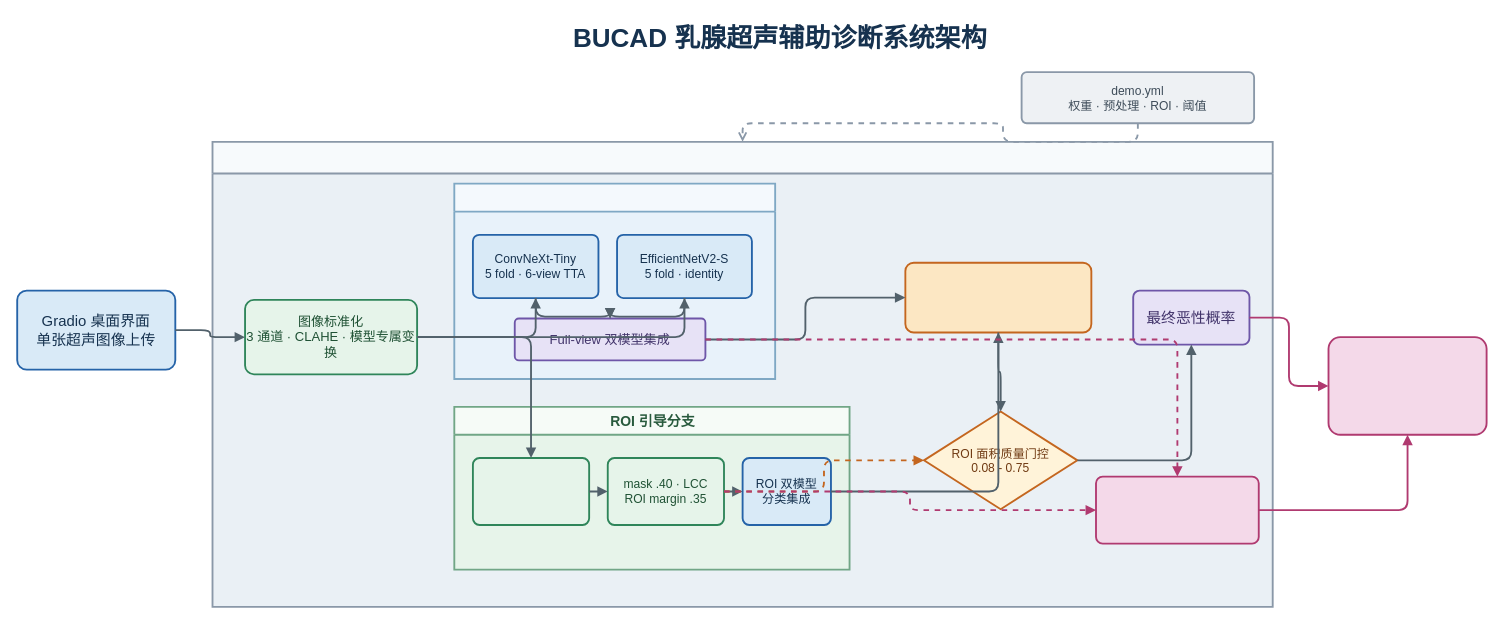
Some shapes in this 1503 by 623 pixel diagram are drawn without their labels. The shapes that lost their labels are listed below. From the top down, each one's box as (x1, y1, x2, y2) in pixels, then its label:
(453, 182, 776, 379): 完整图分类分支
(904, 261, 1092, 333): OOF Logistic Stacker full / ROI logit
(211, 140, 1273, 607): BUCAD 主线推理服务 | BreastUltrasoundInferenceService
(1327, 336, 1487, 435): Gradio 结果视图 概率 · 良恶性判别 边界提示 · 影像证据
(472, 457, 590, 525): UNet-ResNet18 256 px 病灶分割
(1095, 475, 1259, 544): 可解释性证据 病灶 mask · ROI · Grad-CAM
